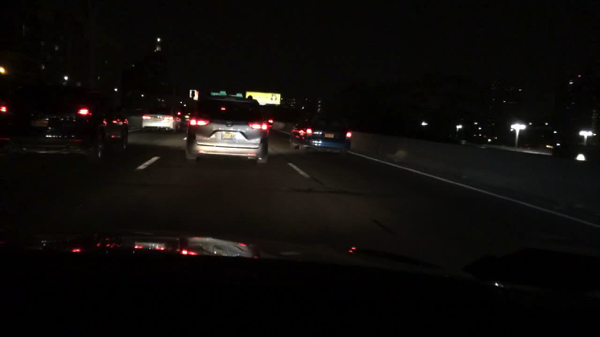car: (1, 82, 129, 169), (185, 98, 270, 165), (291, 114, 355, 155), (142, 99, 184, 133), (411, 116, 461, 142), (550, 143, 599, 162), (469, 130, 504, 143)
traffic sign: (209, 92, 227, 96), (228, 95, 243, 98), (220, 91, 226, 94), (237, 93, 242, 96)
